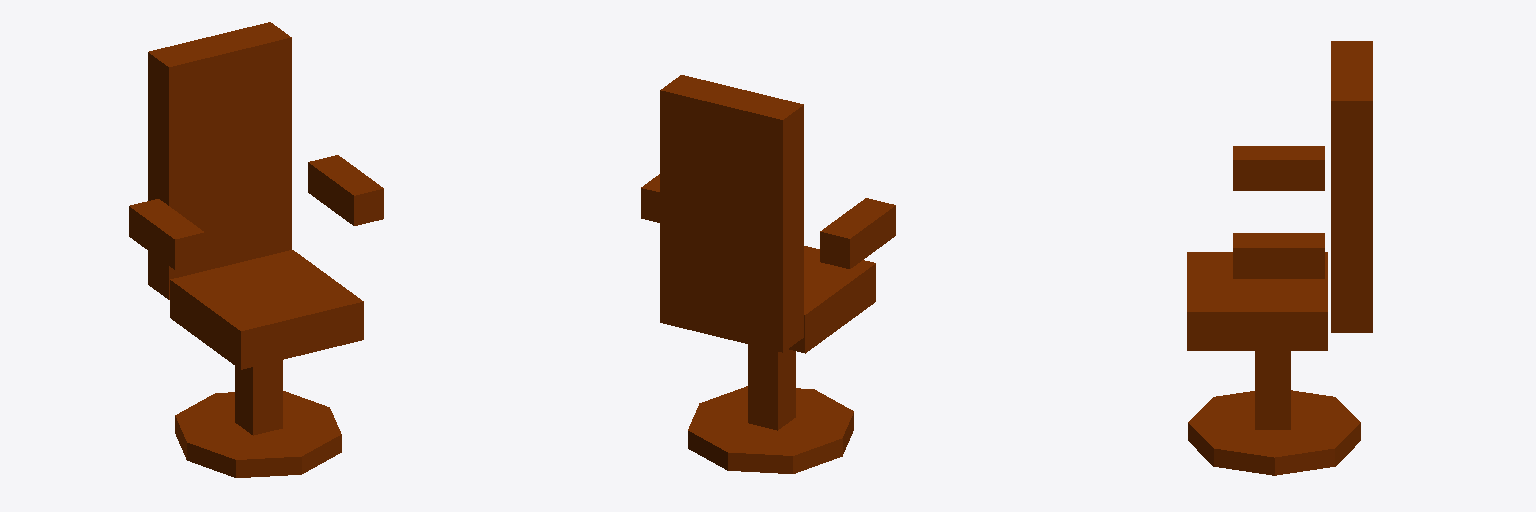
File: irodaszek.obj
The picture shows the model from 3 angles: view 1: azimuth 30°, elevation 25°; view 2: azimuth 150°, elevation 25°; view 3: azimuth 270°, elevation 25°; orthographic projection.
Visible parts, largest first — view 1: irodaszek; view 2: irodaszek; view 3: irodaszek.
Boxes of the visible parts, x1,y1,x2,y2 form: irodaszek: [129, 22, 383, 477]; irodaszek: [641, 75, 895, 473]; irodaszek: [1187, 41, 1372, 475].
Bounding box in the file's own units: 51.56 × 87.07 × 39.8.